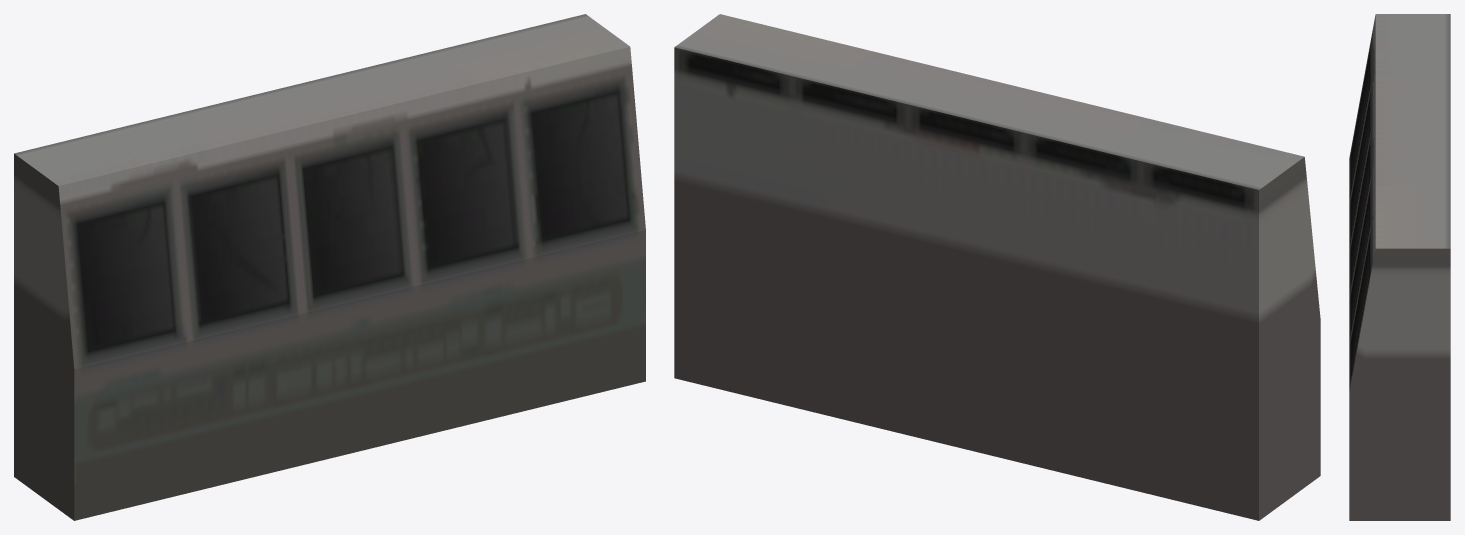
The model's file is Building_AncientDisplayBank.obj.
3 views of the same model, side by side, from view 1: azimuth 30°, elevation 25°; view 2: azimuth 150°, elevation 25°; view 3: azimuth 270°, elevation 25° (orthographic). The views are drawn at different scales.
Visible parts, largest first — view 1: Body; view 2: Body; view 3: Body.
Part boxes in pixels (bbox=[...]): Body: bbox=[14, 14, 645, 520]; Body: bbox=[674, 14, 1320, 520]; Body: bbox=[1349, 14, 1450, 520].
Size of the model in its own units: 2.96 by 1.6 by 0.54.
1 material, 1 textured.
